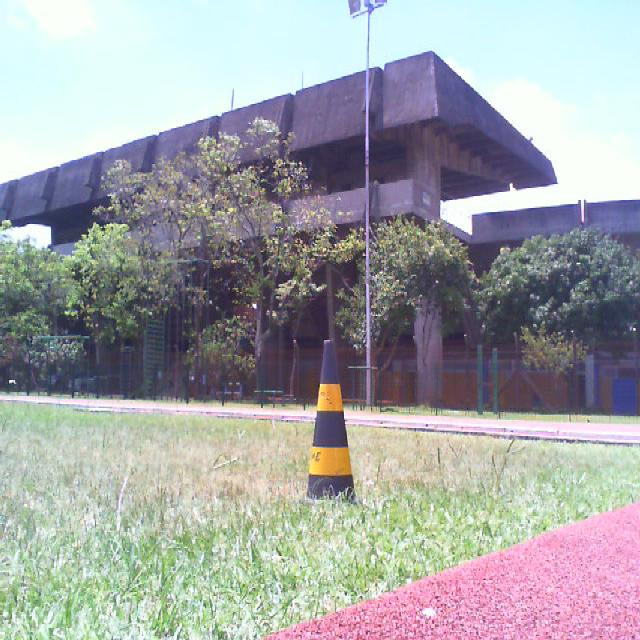cone: (300, 340, 362, 507)
